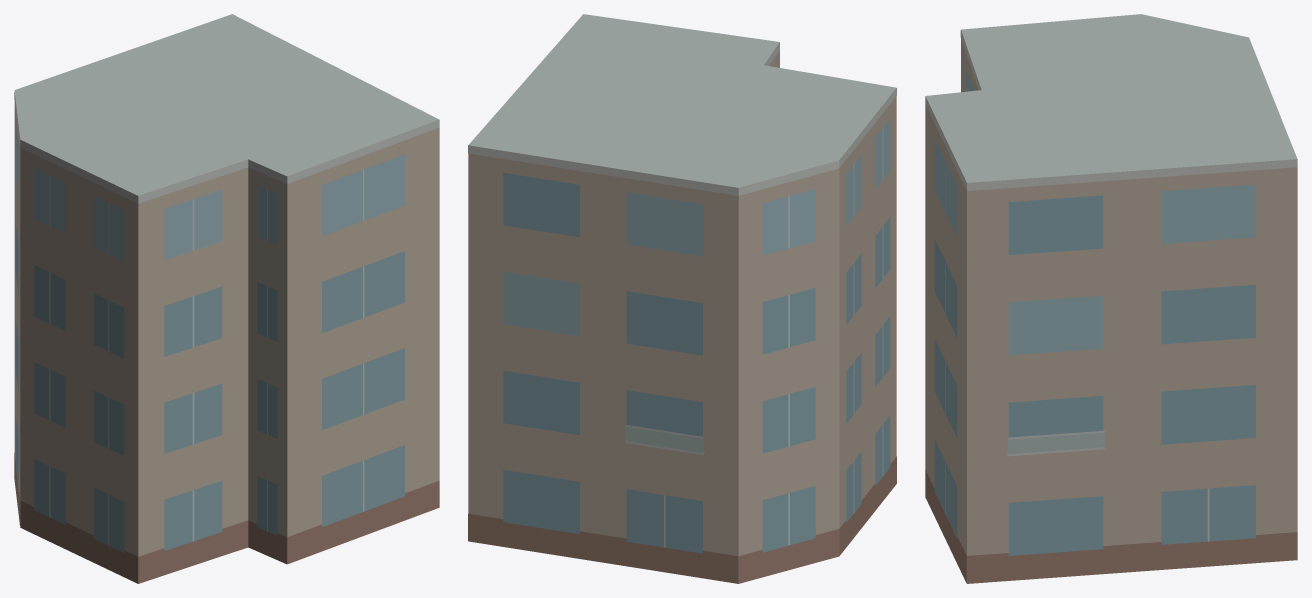
File: survey-upis-32894536.glb
The picture shows the model from 3 angles, left to right: view 1: azimuth 30°, elevation 25°; view 2: azimuth 150°, elevation 25°; view 3: azimuth 270°, elevation 25°; orthographic projection. The views are drawn at different scales.
Visible parts, largest first — view 1: survey-upis-32894536.tmp; view 2: survey-upis-32894536.tmp; view 3: survey-upis-32894536.tmp.
Boxes of the visible parts, x1=… form: survey-upis-32894536.tmp: x1=14, y1=14, x2=439, y2=583; survey-upis-32894536.tmp: x1=468, y1=14, x2=896, y2=583; survey-upis-32894536.tmp: x1=925, y1=14, x2=1297, y2=583.
Bounding box in the file's own units: 10.85 × 12 × 10.11.
